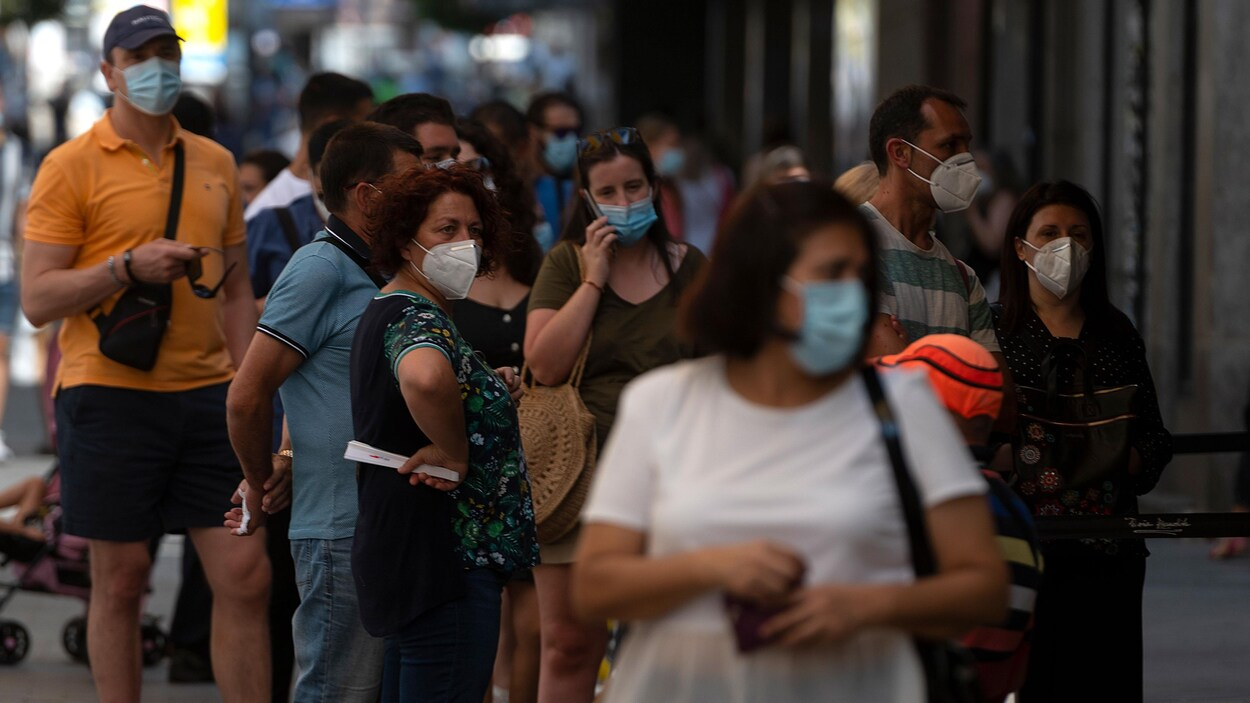with_mask: (781, 233, 862, 383), (887, 104, 982, 224), (410, 191, 479, 310), (586, 163, 658, 249), (1024, 209, 1092, 299), (109, 37, 183, 115), (536, 104, 578, 175)
